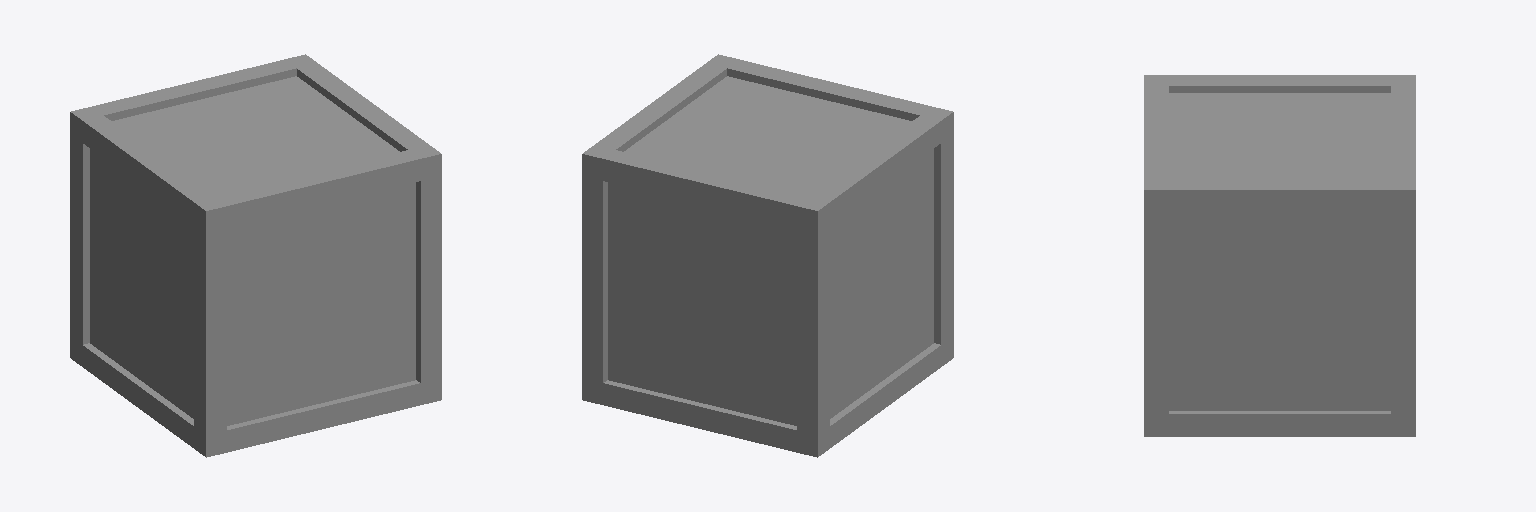
The model's file is cajabase.obj.
3 views of the same model, side by side, from view 1: azimuth 30°, elevation 25°; view 2: azimuth 150°, elevation 25°; view 3: azimuth 270°, elevation 25° (orthographic).
Visible parts, largest first — view 1: Cube; view 2: Cube; view 3: Cube.
Part boxes in pixels (x1,y1,x2,y2): Cube: (70, 54, 441, 457); Cube: (582, 54, 953, 457); Cube: (1144, 75, 1415, 436).
Size of the model in its own units: 2 by 2 by 2.